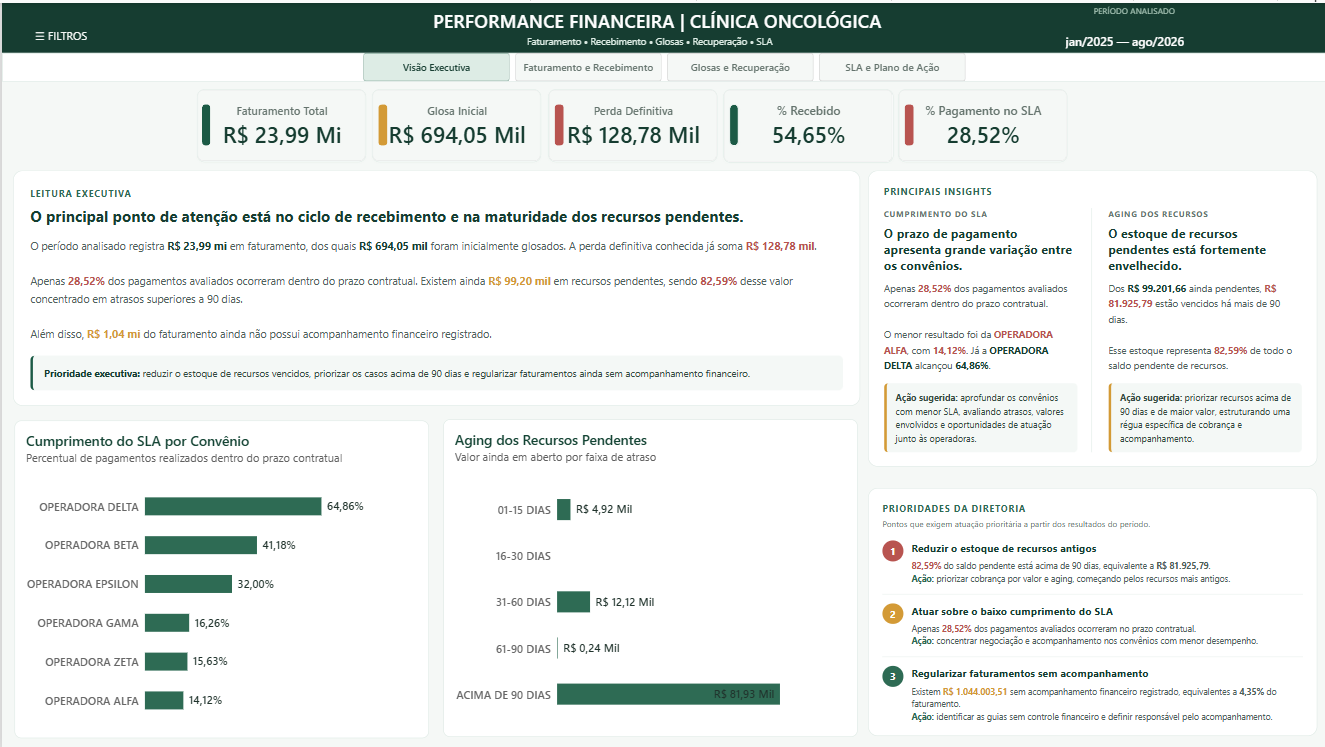

Layout of this report page (visuals, bound fields, positions):
{"tool":"powerbi","page":{"name":"Visão Executiva","canvas":[1920,1080],"ordinal":0},"visuals":[{"type":"group","id":"g1","title":"Cabeçalho","box":[0,0,2560,114],"z":0},{"type":"shape","box":[0,0,2560,72],"z":0,"group":"g1"},{"type":"cardVisual","fields":{"Data":["00_Medidas.Glosa Inicial"]},"box":[536,124.2,245,105.6],"z":0,"group":"g3"},{"type":"cardVisual","fields":{"Data":["00_Medidas.Perda Definitiva"]},"box":[789.9,124.2,245,105.6],"z":0,"group":"g4"},{"type":"cardVisual","fields":{"Data":["00_Medidas.% Recebido"]},"box":[1043.8,124.2,246.2,106.5],"z":0,"group":"g5"},{"type":"cardVisual","fields":{"Data":["00_Medidas.% Pagamento no SLA"]},"box":[1296.9,124.2,245,105.6],"z":0,"group":"g6"},{"type":"cardVisual","fields":{"Data":["00_Medidas.Faturamento Total"]},"box":[283,125.6,245,105.6],"z":0,"group":"g2"},{"type":"textbox","box":[624.3,7.2,669.6,57.9],"z":1000,"group":"g1"},{"type":"group","id":"g2","title":"Card 1","box":[283,125.6,245,105.6],"z":1000},{"type":"shape","box":[544.5,145.3,13.4,60],"z":1000,"group":"g3"},{"type":"shape","box":[798.4,145.3,13.4,60],"z":1000,"group":"g4"},{"type":"shape","box":[1305.4,145.3,13.4,60],"z":1000,"group":"g6"},{"type":"shape","box":[1052.4,145.5,13.5,60.5],"z":1000,"group":"g5"},{"type":"shape","box":[290.8,146.7,12.2,60],"z":1000,"group":"g2"},{"type":"textbox","box":[760,45.2,399.9,43.4],"z":2000,"group":"g1"},{"type":"group","id":"g3","title":"Card 2","box":[536,124.2,245.8,105.6],"z":2000},{"type":"cardVisual","title":"PERÍODO ANALISADO","fields":{"Data":["00_Medidas.Período Selecionado"]},"box":[1523.5,3.8,231.3,71.5],"z":3000,"group":"g1"},{"type":"group","id":"g4","title":"Card 3","box":[789.9,124.2,245.8,105.6],"z":3000},{"type":"shape","box":[0,72.4,2560,42],"z":4000,"group":"g1"},{"type":"group","id":"g5","title":"Card 1","box":[1043.8,124.2,245,105.6],"z":4000},{"type":"pageNavigator","box":[523.9,72.4,872.3,41.6],"z":5000,"group":"g1"},{"type":"group","id":"g6","title":"Card 1","box":[1296.9,124.2,245,105.6],"z":5000},{"type":"htmlContent443BE3AD55E043BF878BED274D3A6855","fields":{"content":["00_Medidas.HTML Resumo Executivo"]},"box":[0,228,1258,374],"z":6000},{"type":"clusteredBarChart","title":"Cumprimento do SLA por Convênio","fields":{"Category":["base_analitica_oncologia.NM_CONVENIO_PADRAO"],"Y":["00_Medidas.% Pagamento no SLA"]},"box":[18,604,600,460],"z":7000},{"type":"clusteredBarChart","title":"Aging dos Recursos Pendentes","fields":{"Category":["Dim_Aging_Recurso.FAIXA_AGING_RECURSO"],"Y":["00_Medidas.Recurso Pendente"]},"box":[638,602,600,460],"z":8000},{"type":"htmlContent443BE3AD55E043BF878BED274D3A6855","fields":{"content":["00_Medidas.HTML Insights Executivos"]},"box":[1238,228,682,460],"z":9000},{"type":"actionButton","box":[24,18,124,58],"z":9500},{"type":"htmlContent443BE3AD55E043BF878BED274D3A6855","fields":{"content":["00_Medidas.HTML Prioridades Diretoria"]},"box":[1238,688,682,392],"z":10000}]}

Visuals, with their boxes in screenshot pixels (x1, y1, x2, y2), scaled from the page's 1920x1080 canvas onto the 1325x747 screenshot:
"Cabeçalho" group: 0,0,1324,79
shape: 0,0,1324,50
cardVisual - 00_Medidas.Glosa Inicial: 370,86,539,159
cardVisual - 00_Medidas.Perda Definitiva: 545,86,714,159
cardVisual - 00_Medidas.% Recebido: 720,86,890,160
cardVisual - 00_Medidas.% Pagamento no SLA: 895,86,1064,159
cardVisual - 00_Medidas.Faturamento Total: 195,87,364,160
textbox: 431,5,893,45
"Card 1" group: 195,87,364,160
shape: 376,100,385,142
shape: 551,100,560,142
shape: 901,100,910,142
shape: 726,101,736,142
shape: 201,101,209,143
textbox: 524,31,800,61
"Card 2" group: 370,86,540,159
"PERÍODO ANALISADO" cardVisual: 1051,3,1211,52
"Card 3" group: 545,86,715,159
shape: 0,50,1324,79
"Card 1" group: 720,86,889,159
pageNavigator: 362,50,964,79
"Card 1" group: 895,86,1064,159
htmlContent443BE3AD55E043BF878BED274D3A6855 - 00_Medidas.HTML Resumo Executivo: 0,158,868,416
"Cumprimento do SLA por Convênio" clusteredBarChart: 12,418,426,736
"Aging dos Recursos Pendentes" clusteredBarChart: 440,416,854,735
htmlContent443BE3AD55E043BF878BED274D3A6855 - 00_Medidas.HTML Insights Executivos: 854,158,1324,476
actionButton: 17,12,102,53
htmlContent443BE3AD55E043BF878BED274D3A6855 - 00_Medidas.HTML Prioridades Diretoria: 854,476,1324,746
